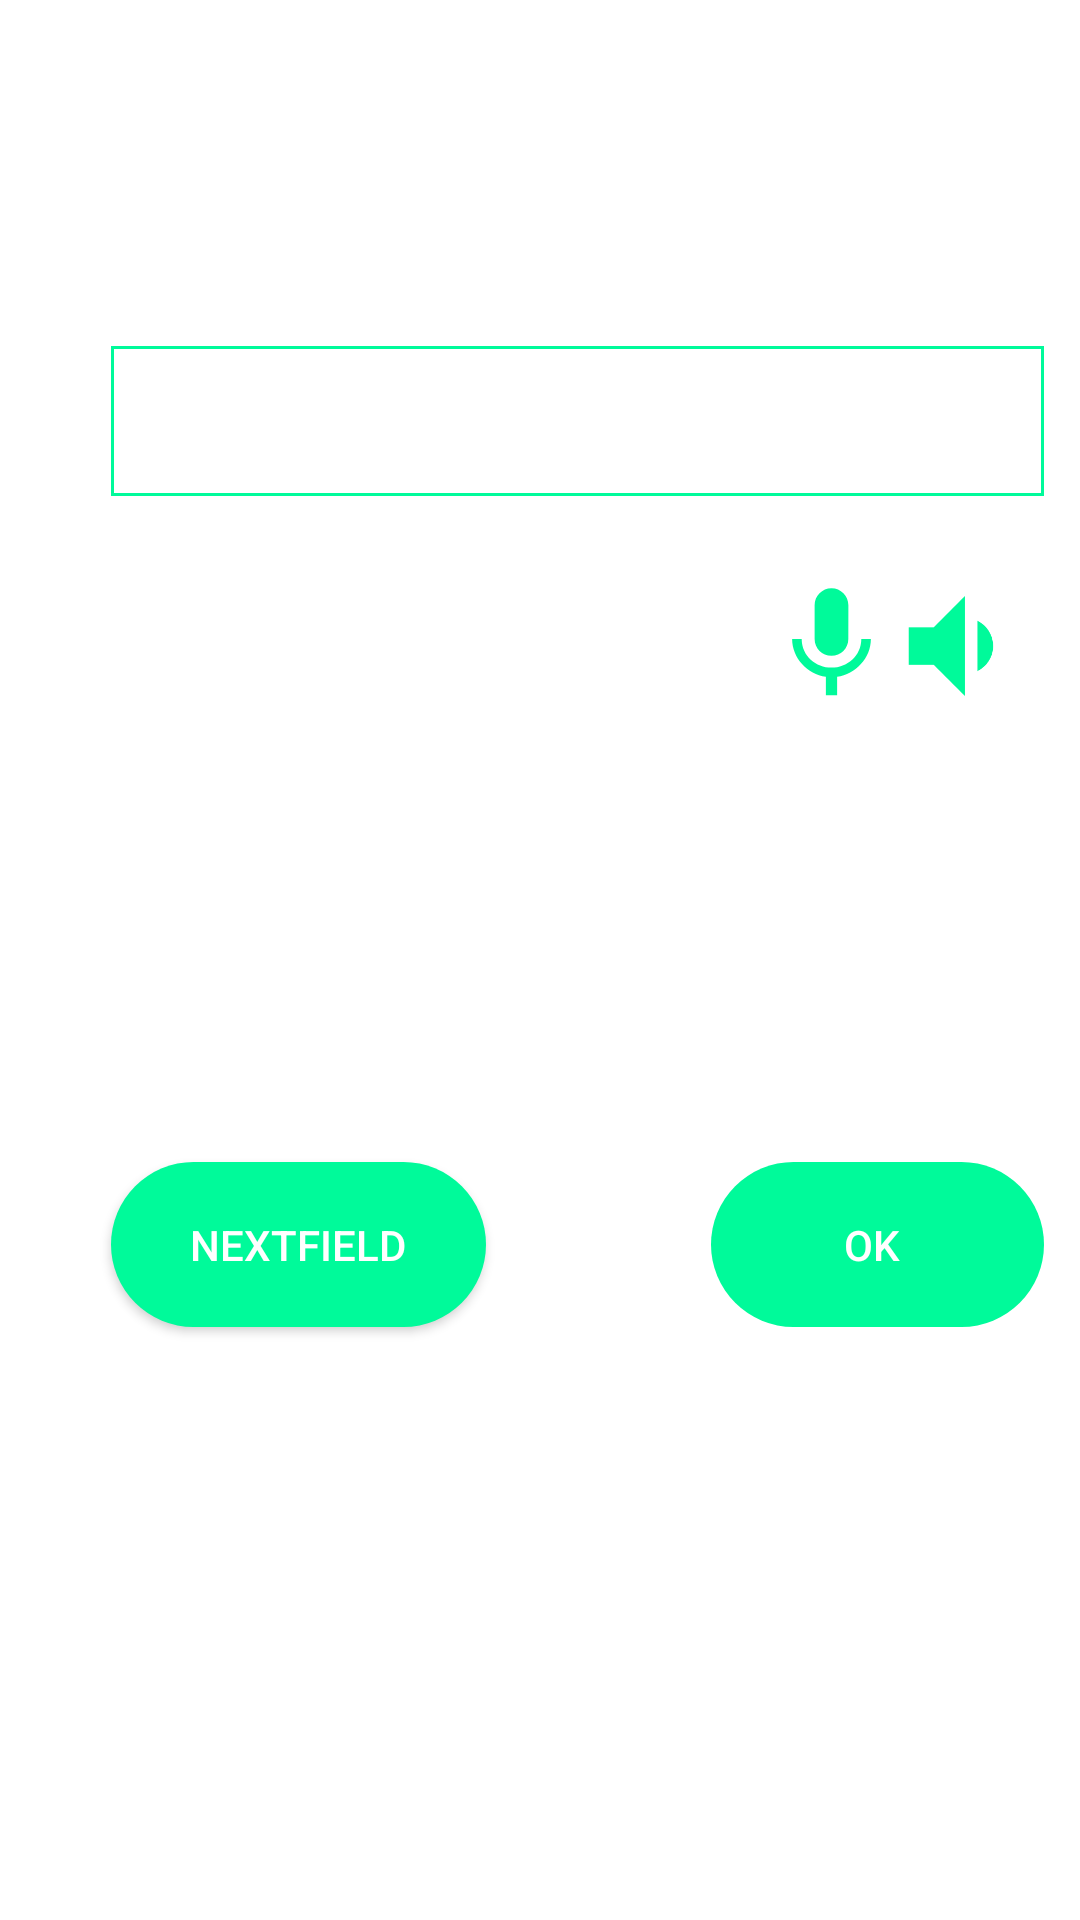

Where icons sit on this 1080x1920 app screen, as (x1, y1, x2, y2):
mic: (792, 588, 871, 696)
speaker: (908, 596, 994, 696)
